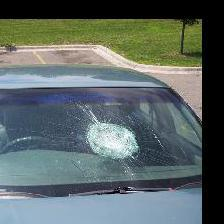glass_shatter: (48, 97, 186, 182)
